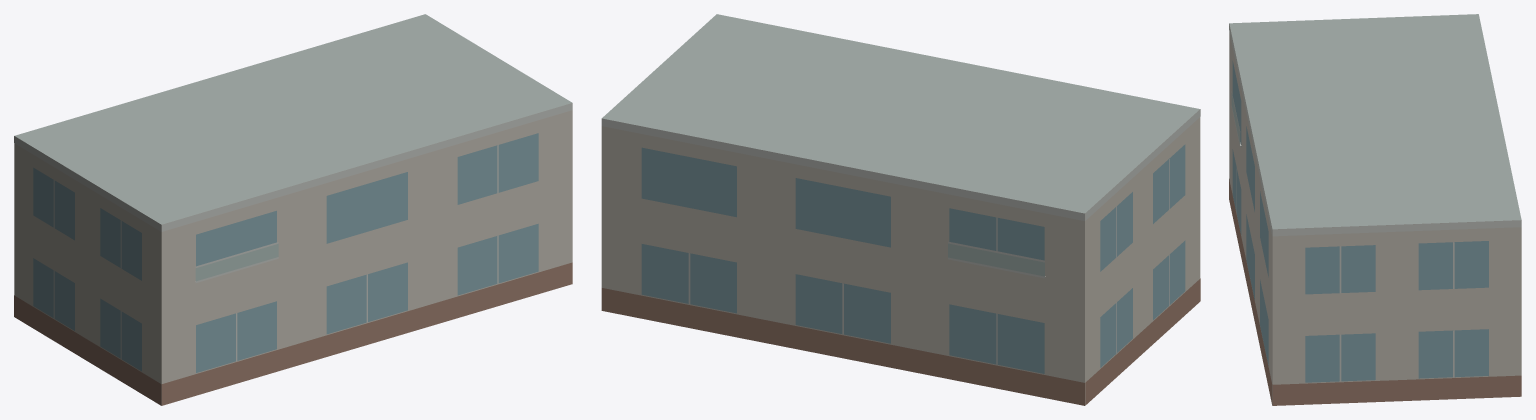
The model's file is survey-upis-32697170.glb.
The picture shows the model from 3 angles, left to right: view 1: azimuth 30°, elevation 25°; view 2: azimuth 150°, elevation 25°; view 3: azimuth 270°, elevation 25°; orthographic projection. The views are drawn at different scales.
Parts seen in each view (by area): view 1: survey-upis-32697170.tmp; view 2: survey-upis-32697170.tmp; view 3: survey-upis-32697170.tmp.
Part boxes in pixels (x1,y1,x2,y2): survey-upis-32697170.tmp: (14, 14, 572, 405); survey-upis-32697170.tmp: (601, 14, 1200, 405); survey-upis-32697170.tmp: (1229, 14, 1521, 405).
Bounding box in the file's own units: 15.96 × 6.1 × 9.17.
